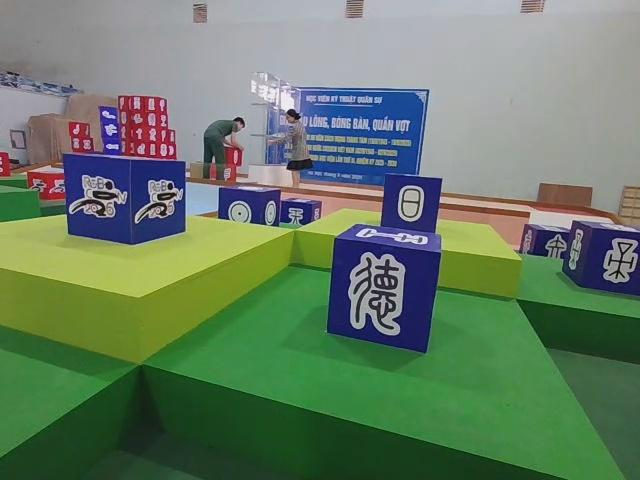R1 Blue: (64, 154, 187, 249)
R2 Fake Blue: (325, 222, 441, 354), (381, 175, 444, 236), (520, 225, 575, 261)
R2 Real Blue: (561, 222, 639, 301), (216, 187, 279, 229), (278, 198, 321, 227), (279, 198, 322, 227)
